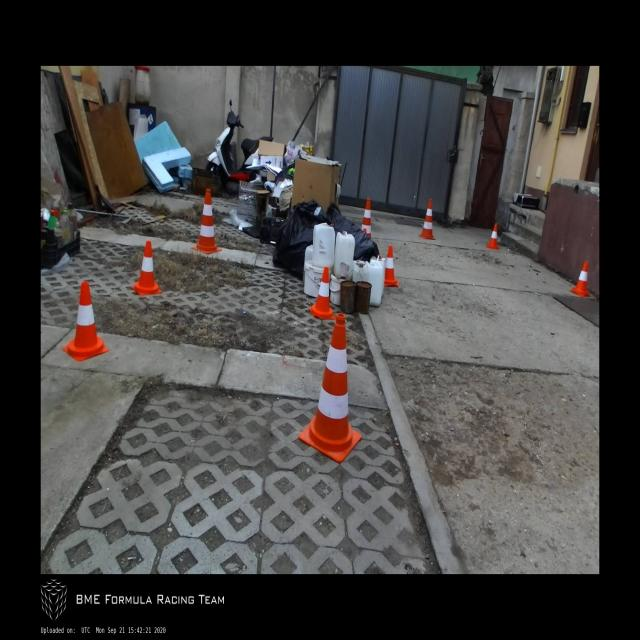large_orange_cone: (298, 314, 362, 463), (192, 188, 222, 254), (419, 201, 435, 239), (361, 198, 371, 238)
orange_cone: (62, 282, 109, 362), (131, 241, 162, 295), (309, 267, 336, 319), (570, 261, 590, 297), (384, 246, 399, 286), (486, 223, 499, 250)
